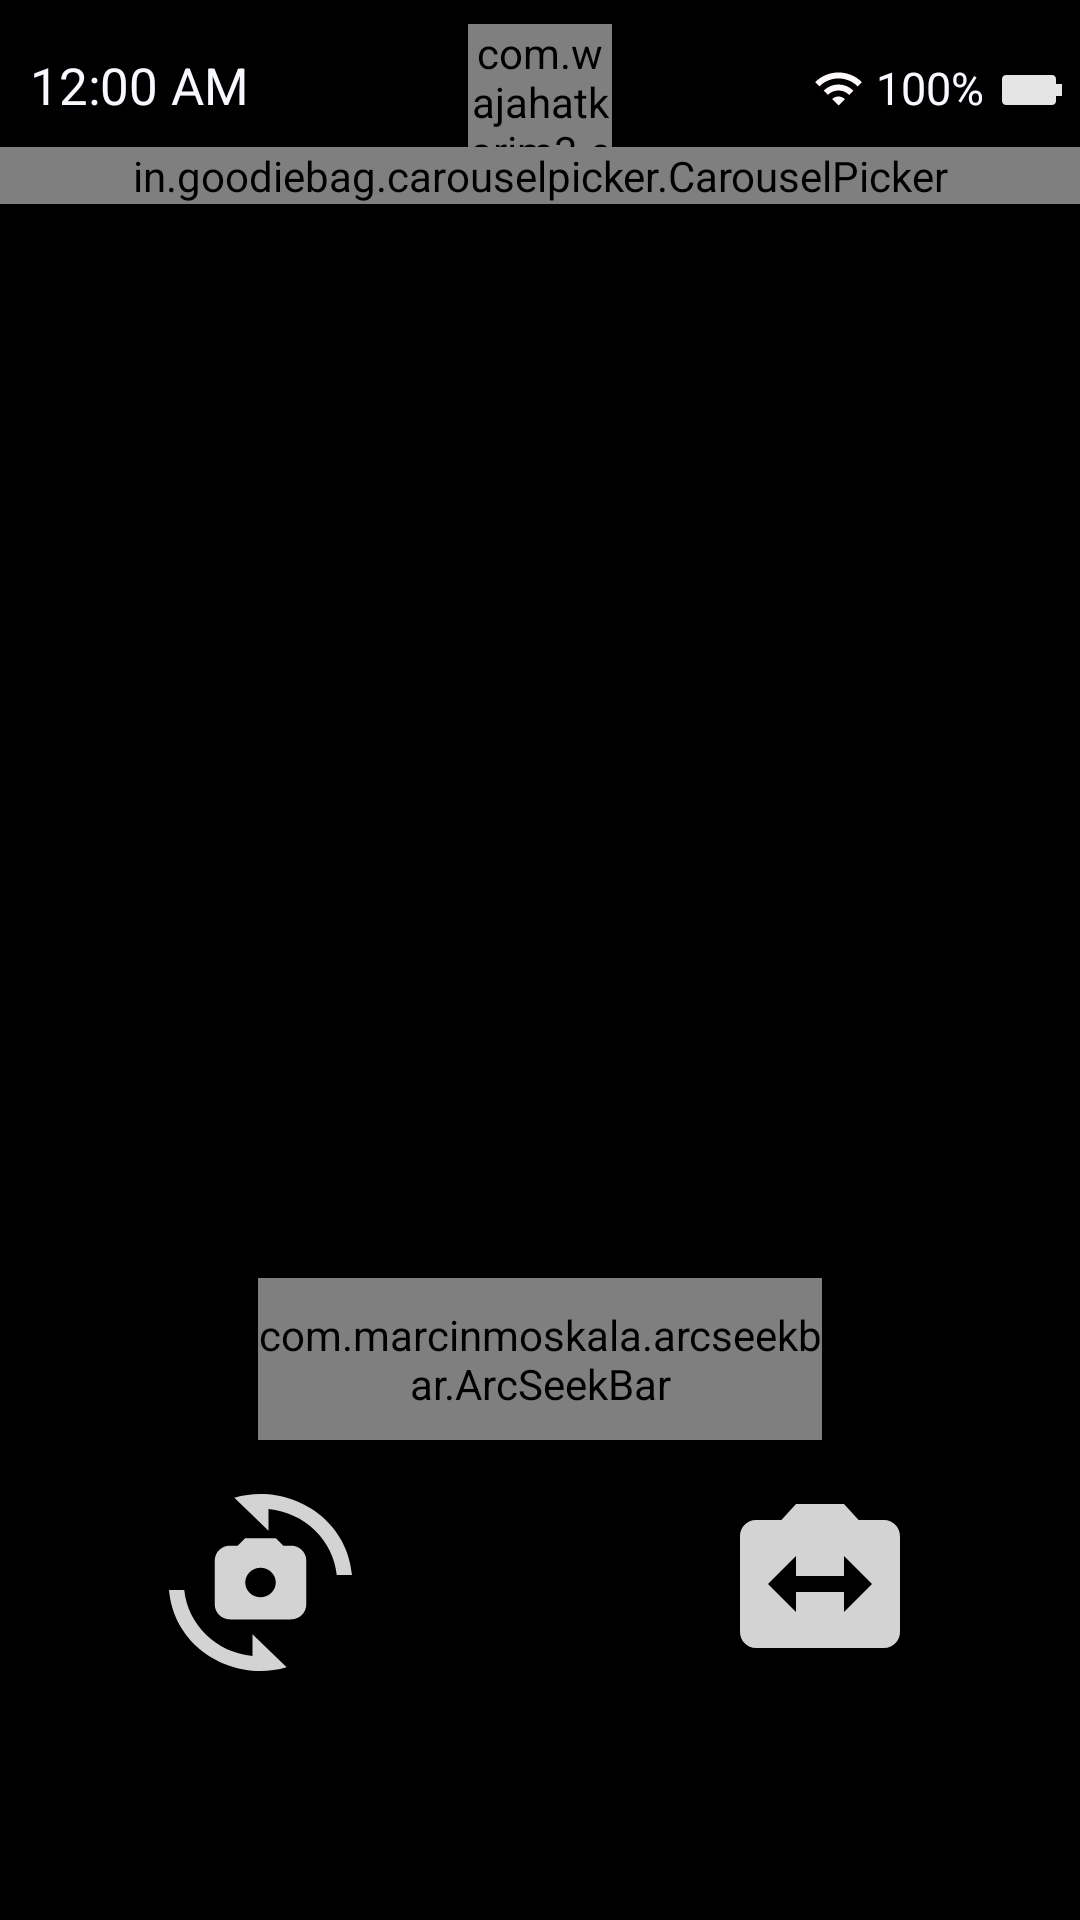

Point at icon controls on the screen. Image size 1080w x 1920h, points as (x=x, y=y).
wifi: (x=838, y=89)
